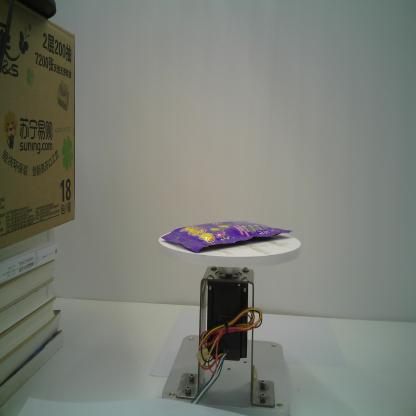Candy: (160, 220, 294, 254)
